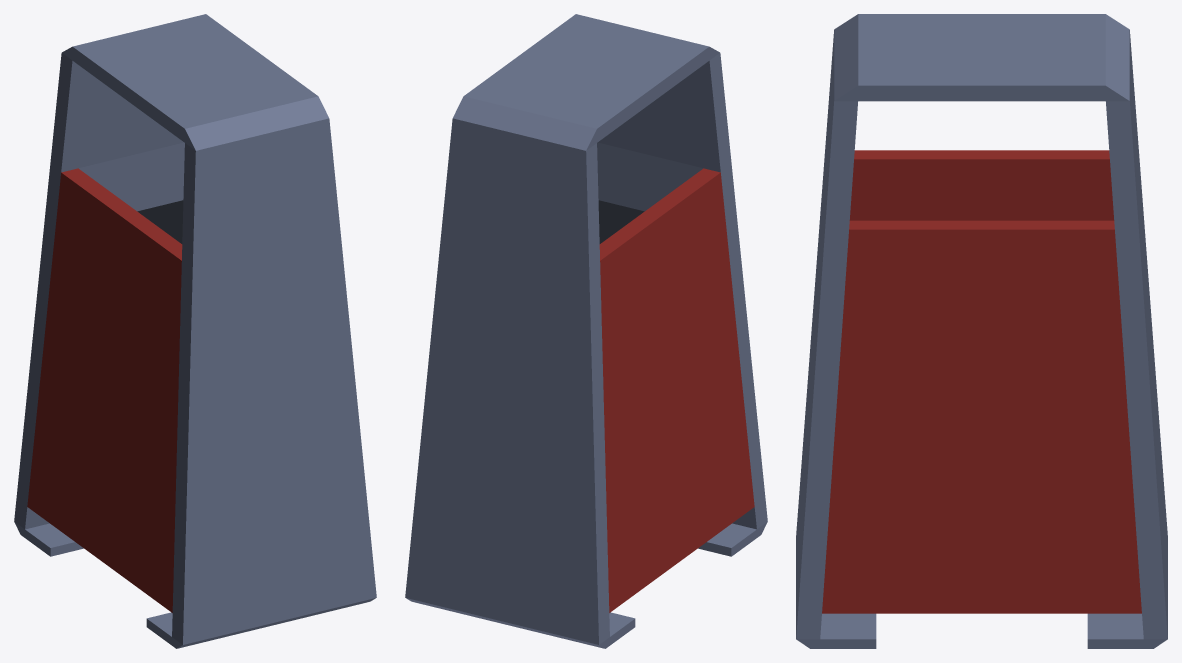
File: WasteBin.fbx
The picture shows the model from 3 angles, left to right: view 1: azimuth 30°, elevation 25°; view 2: azimuth 150°, elevation 25°; view 3: azimuth 270°, elevation 25°; orthographic projection. The views are drawn at different scales.
Parts seen in each view (by area): view 1: WasteBin; view 2: WasteBin; view 3: WasteBin.
Part boxes in pixels (box(x1,y1,x2,y2)): WasteBin: box(14, 14, 376, 648); WasteBin: box(405, 14, 767, 648); WasteBin: box(796, 14, 1167, 648).
Bounding box in the file's own units: 0.4474 × 1.1 × 0.6745.
